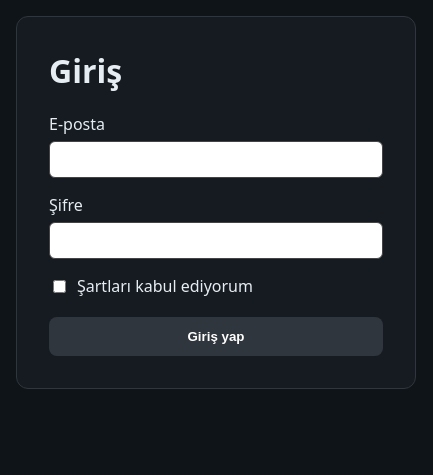
Test: Login formu › Hata durumlari › gecersiz email ve sifre: iki hata, sifre mesaji, buton disabled
Type "bademail" into the field with test id "email".
click(216, 160); type("bademail")  # box top-left (49, 141), bottom-right (383, 178)
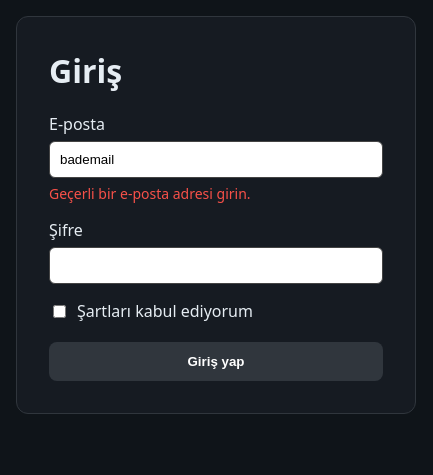
Type "123" into the password field with test id "password".
click(216, 266); type("123")  # box top-left (49, 247), bottom-right (383, 284)
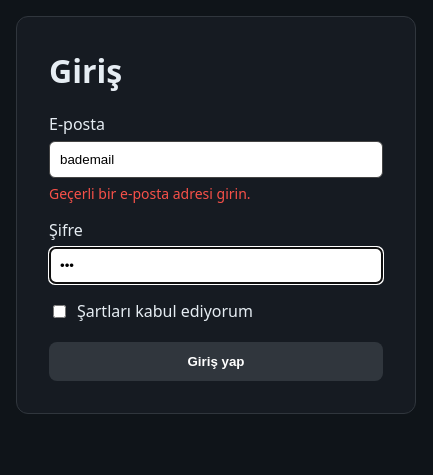
Leave the password field with test id "password", box top-left (49, 247), bottom-right (383, 284)
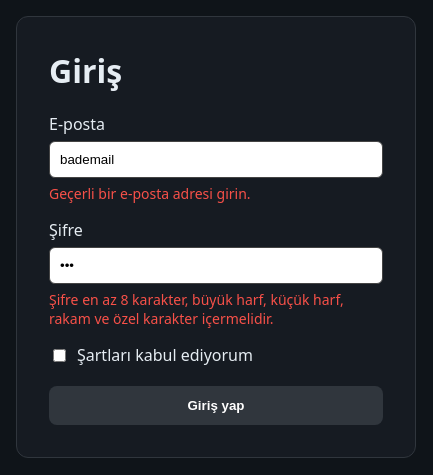
expect the button with test id "login-submit" is disabled: met, box top-left (49, 386), bottom-right (383, 425)
expect the number of elements with test id "form-error" is 2: met, box top-left (49, 184), bottom-right (251, 203); top-left (49, 290), bottom-right (383, 328)
expect the text with test id "form-error" shows "Şifre en az 8 karakter": met, box top-left (49, 290), bottom-right (344, 328)
